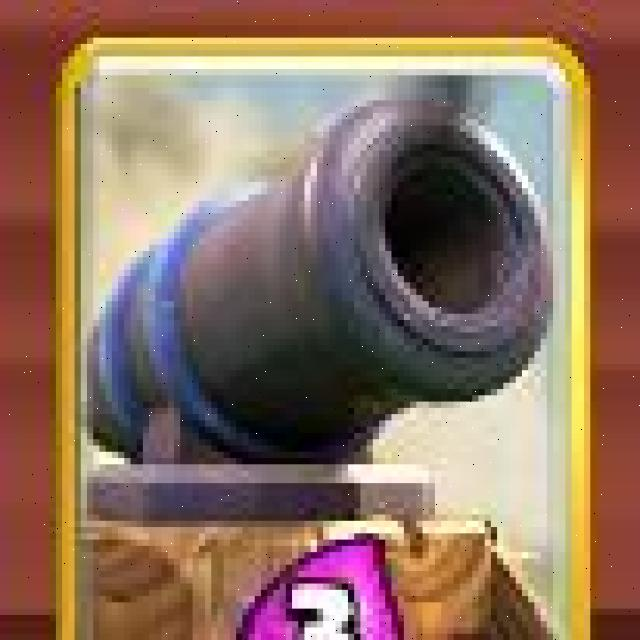Cannon: (50, 32, 592, 640)
